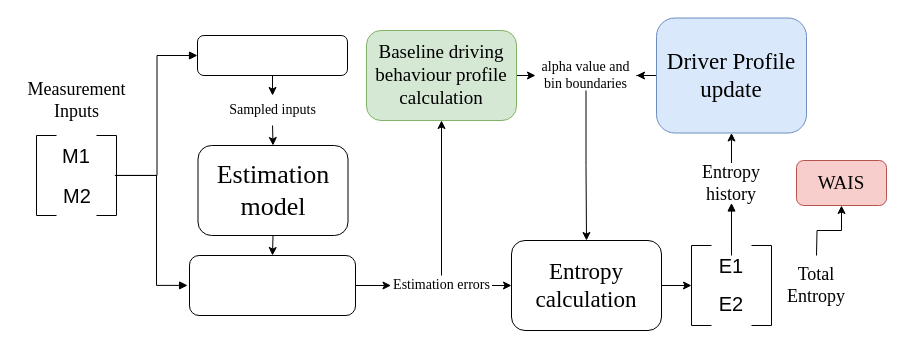
Image size: 904x348. Some labels were removed from this diagram. The box of each missing label's shape, as (x1, y1, x2, y2) in pixels:
Estimation error calculation: (188, 254, 356, 316)
Sampling: (196, 34, 348, 76)
